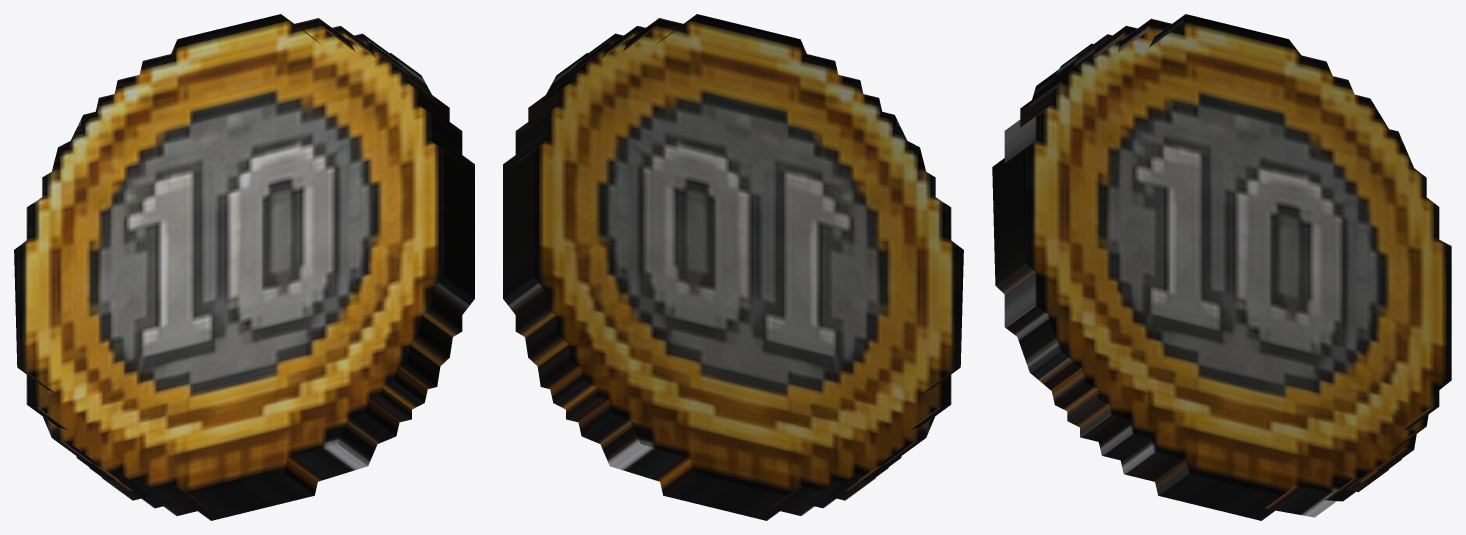
File: coin_10.glb
The picture shows the model from 3 angles, left to right: view 1: azimuth 30°, elevation 25°; view 2: azimuth 150°, elevation 25°; view 3: azimuth 330°, elevation 25°; orthographic projection.
Visible parts, largest first — view 1: world; view 2: world; view 3: world.
Boxes of the visible parts, x1,y1,x2,y2 form: world: (14, 14, 474, 520); world: (503, 14, 963, 520); world: (992, 14, 1451, 520).
Bounding box in the file's own units: 1.37 × 1.4 × 0.1692.
1 material, 1 textured.
